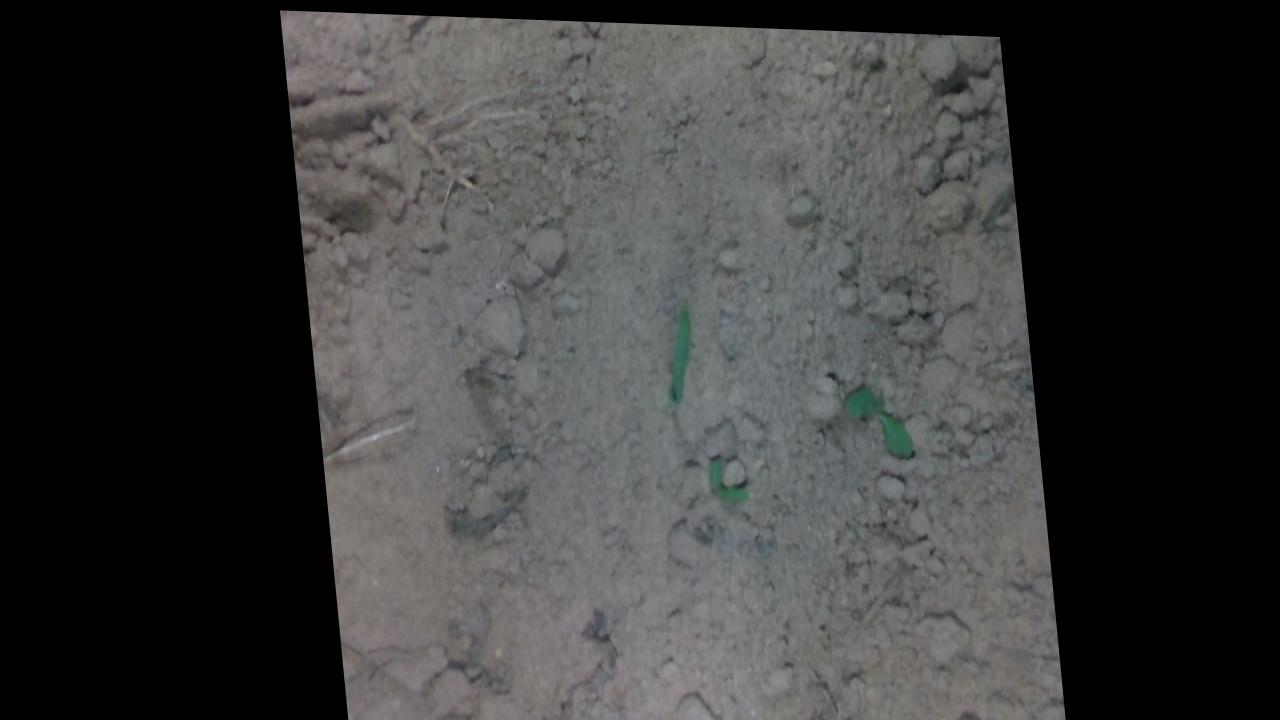weed: (832, 375, 908, 456)
